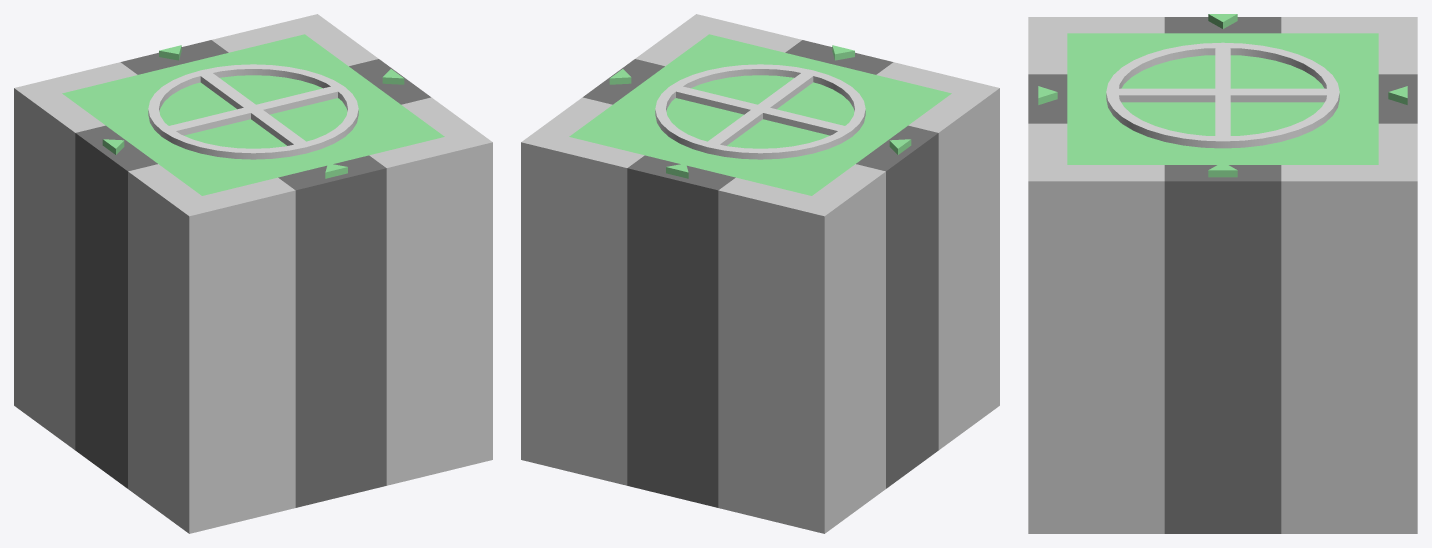
Rendered from EarthTile.fbx.
The picture shows the model from 3 angles, left to right: view 1: azimuth 30°, elevation 25°; view 2: azimuth 150°, elevation 25°; view 3: azimuth 270°, elevation 25°; orthographic projection. The views are drawn at different scales.
Parts seen in each view (by area): view 1: ClearTile, Cylinder003, Arrow; view 2: ClearTile, Cylinder003, Arrow; view 3: ClearTile, Cylinder003, Arrow.
Part boxes in pixels (<box>): ClearTile: <box>14,14,492,533</box>; Cylinder003: <box>148,64,358,159</box>; Arrow: <box>102,45,404,178</box>; ClearTile: <box>521,14,999,533</box>; Cylinder003: <box>655,64,865,159</box>; Arrow: <box>609,45,911,178</box>; ClearTile: <box>1028,17,1417,533</box>; Cylinder003: <box>1106,42,1339,148</box>; Arrow: <box>1038,14,1407,177</box>.
Bounding box in the file's own units: 5 × 5.1 × 5.
